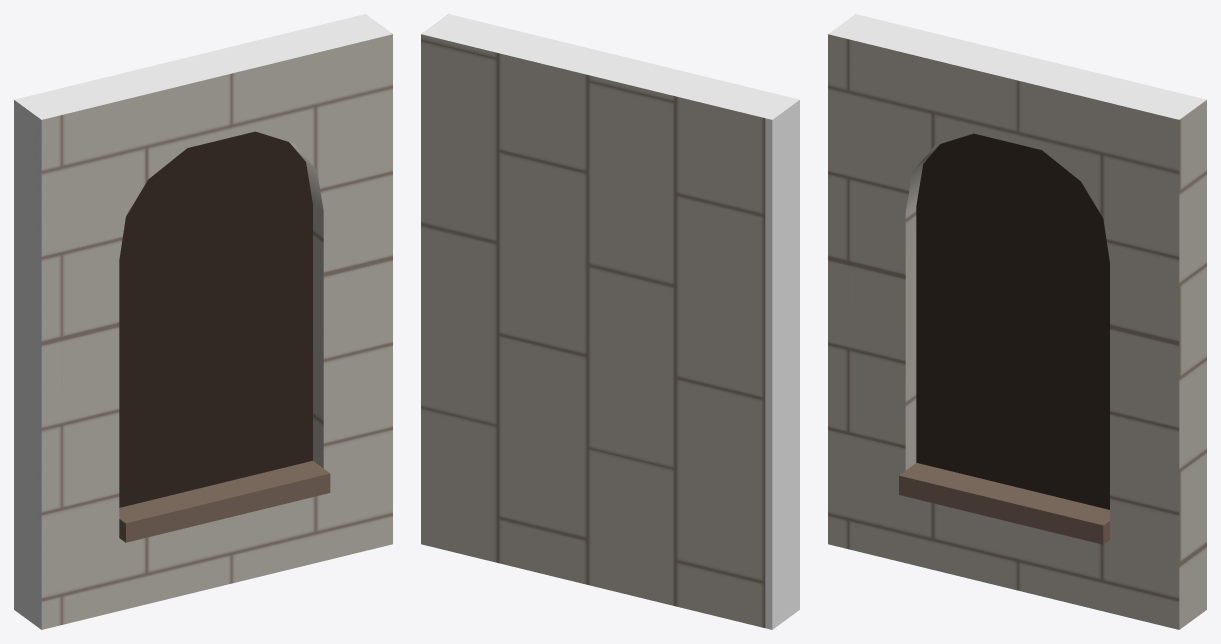
File: window2.fbx
3 views of the same model, side by side, from view 1: azimuth 30°, elevation 25°; view 2: azimuth 150°, elevation 25°; view 3: azimuth 330°, elevation 25° (orthographic).
Visible parts, largest first — view 1: pCube82; view 2: pCube82; view 3: pCube82.
Boxes of the visible parts, bbox=[...] form: pCube82: bbox=[14, 14, 392, 629]; pCube82: bbox=[421, 14, 799, 629]; pCube82: bbox=[828, 14, 1206, 629].
Bounding box in the file's own units: 1.64 × 2.27 × 0.2763.
3 materials, 1 textured.
